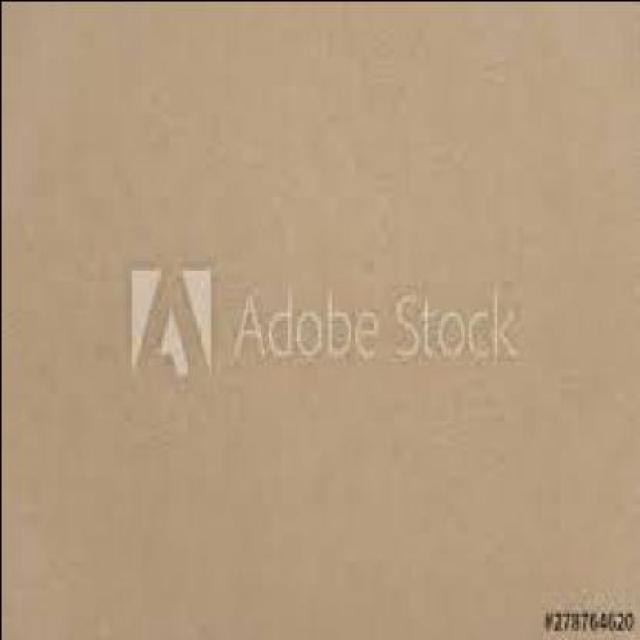CARDBOARD: (1, 1, 638, 637)
